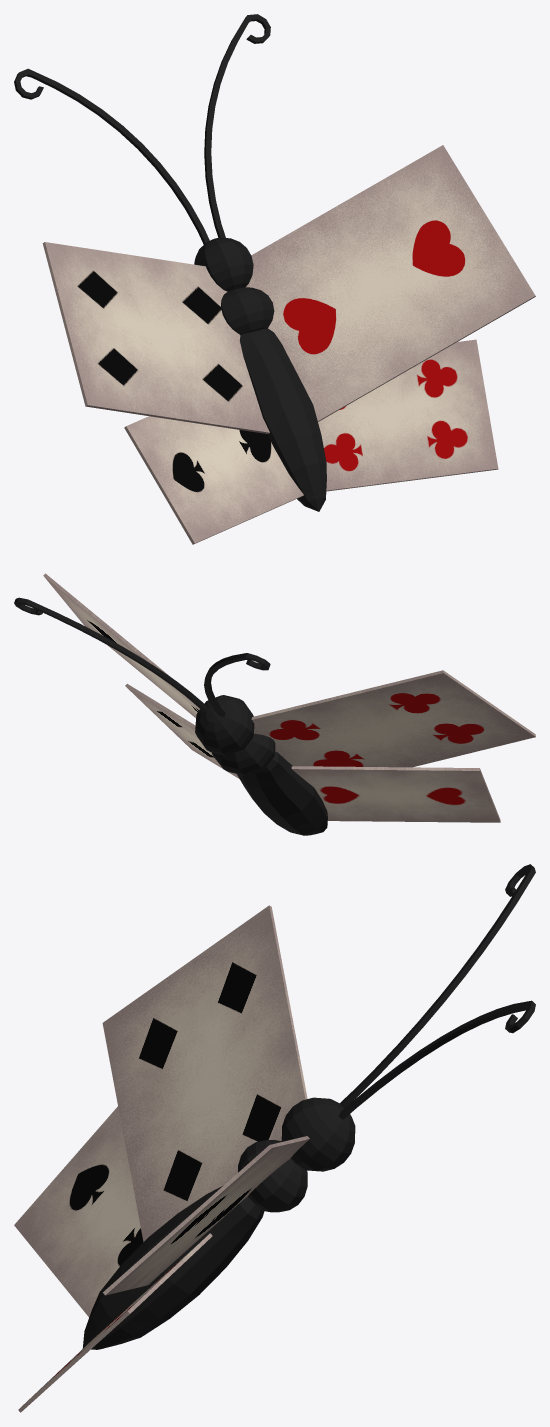
Rendered from FlowtEnemy.fbx.
3 views of the same model, one above another, from view 1: azimuth 30°, elevation 25°; view 2: azimuth 150°, elevation 25°; view 3: azimuth 270°, elevation 25° (orthographic). The views are drawn at different scales.
Parts seen in each view (by area): view 1: polySurface228; view 2: polySurface228; view 3: polySurface228.
Boxes of the visible parts, box(x1,y1,x2,y2) form: polySurface228: box(14, 14, 535, 544); polySurface228: box(14, 573, 535, 835); polySurface228: box(14, 864, 535, 1412).
Bounding box in the file's own units: 1.62 × 1.32 × 1.15.
Materials: 5 (5 with a texture image).
